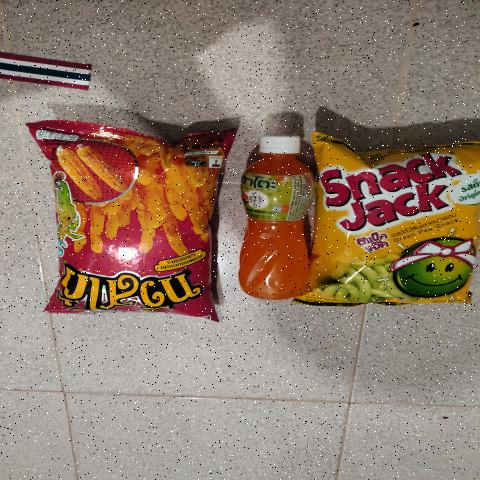snack_jack: (318, 144, 471, 305)
twisco: (55, 138, 199, 314)
